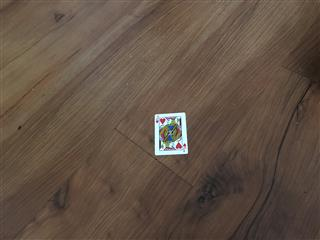JackOfHearts: (154, 111, 188, 156)
